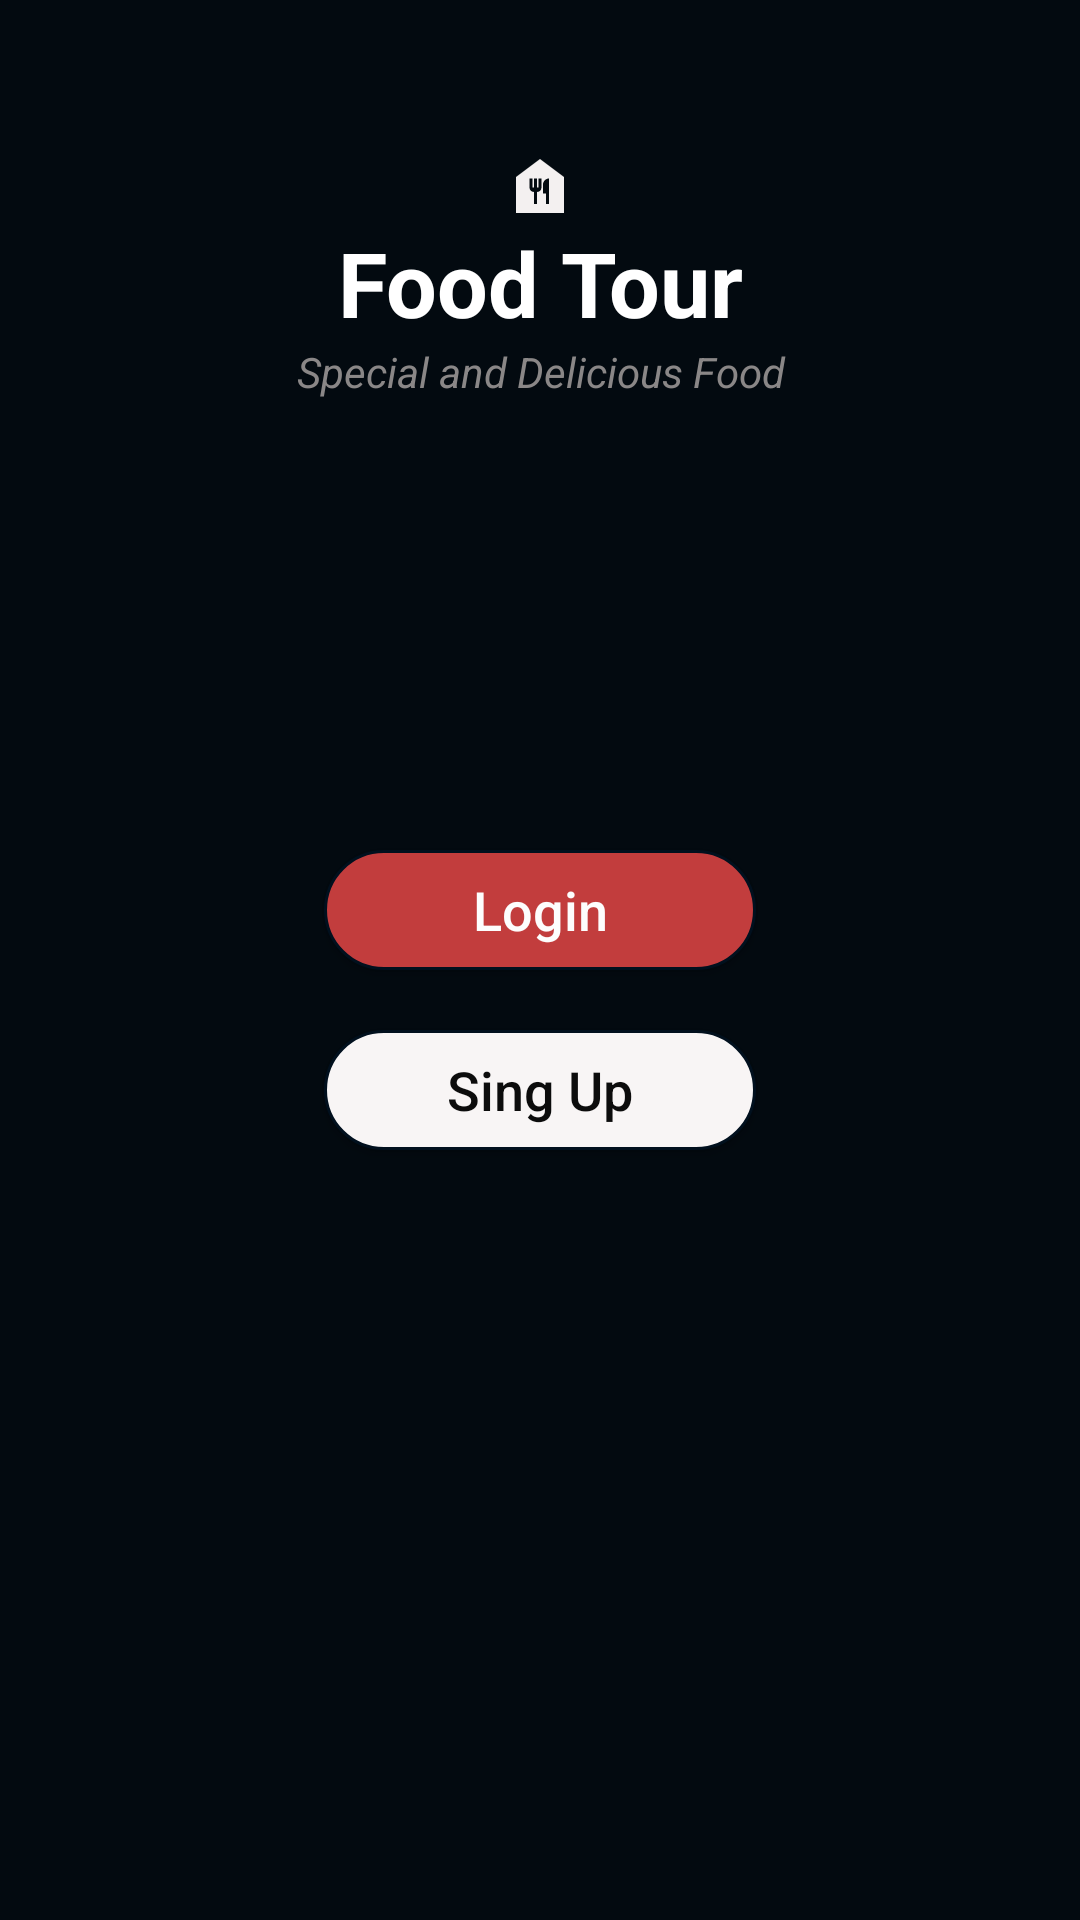

Icon click points for this 1080px×1920px phone screenshot, format (x=x, y=y):
food bank: (x=540, y=186)
